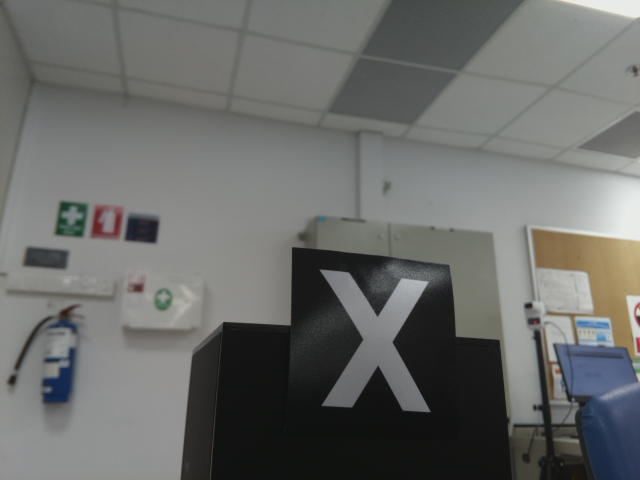x: (308, 263, 442, 421)
